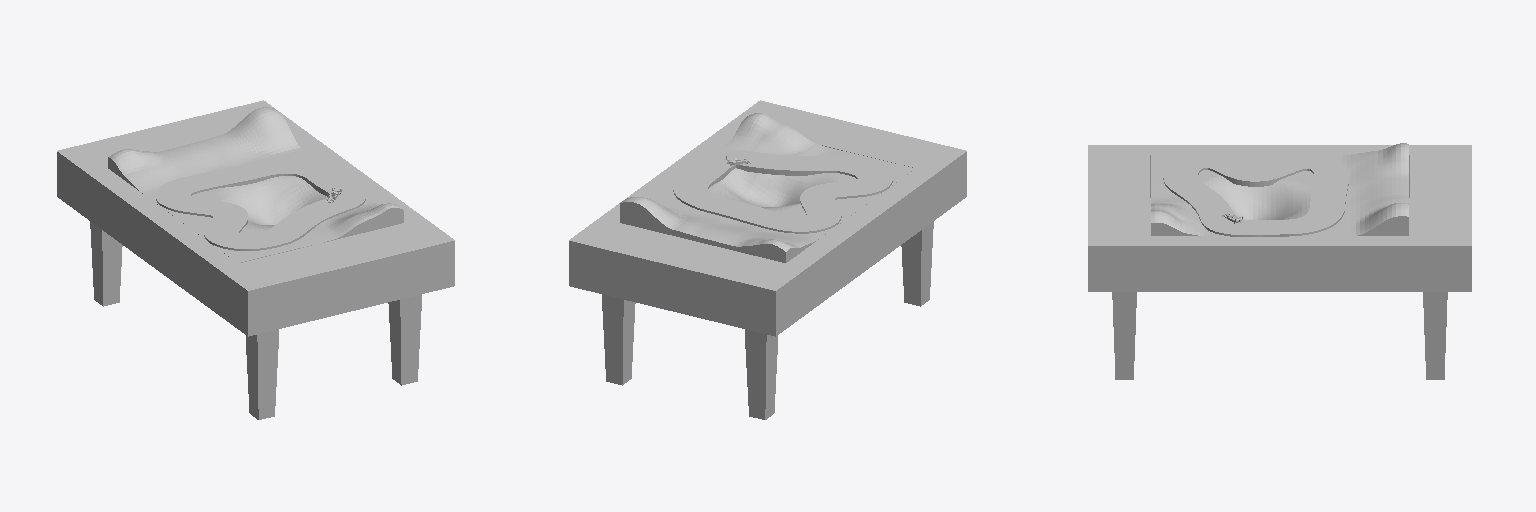
File: NewestTisch33.obj
The picture shows the model from 3 angles: view 1: azimuth 30°, elevation 25°; view 2: azimuth 150°, elevation 25°; view 3: azimuth 270°, elevation 25°; orthographic projection.
Parts seen in each view (by area): view 1: Tischplatte_wood_table_001, Landschaft_aerial_grass_rock, off, Bein1_wood_table_001, Bein4_wood_table_001.003, Bein3_wood_table_001.002; view 2: Tischplatte_wood_table_001, Landschaft_aerial_grass_rock, off, Bein2_wood_table_001.001, Bein3_wood_table_001.002, Bein4_wood_table_001.003; view 3: Tischplatte_wood_table_001, Landschaft_aerial_grass_rock, off, Bein1_wood_table_001, Bein2_wood_table_001.001.
Boxes of the visible parts, <box> form: Tischplatte_wood_table_001: <box>57,100,454,336</box>; Landschaft_aerial_grass_rock: <box>108,107,403,262</box>; off: <box>156,159,365,250</box>; Bein1_wood_table_001: <box>388,294,421,385</box>; Bein4_wood_table_001.003: <box>246,329,278,419</box>; Bein3_wood_table_001.002: <box>90,221,122,306</box>; Tischplatte_wood_table_001: <box>569,100,966,336</box>; Landschaft_aerial_grass_rock: <box>620,113,915,262</box>; off: <box>673,150,892,233</box>; Bein2_wood_table_001.001: <box>602,294,635,385</box>; Bein3_wood_table_001.002: <box>745,329,777,419</box>; Bein4_wood_table_001.003: <box>901,221,933,306</box>; Tischplatte_wood_table_001: <box>1088,145,1471,291</box>; Landschaft_aerial_grass_rock: <box>1151,143,1408,235</box>; off: <box>1163,153,1348,236</box>; Bein1_wood_table_001: <box>1112,292,1136,379</box>; Bein2_wood_table_001.001: <box>1423,292,1447,379</box>.
Bounding box in the file's own units: 5 × 3.91 × 8.